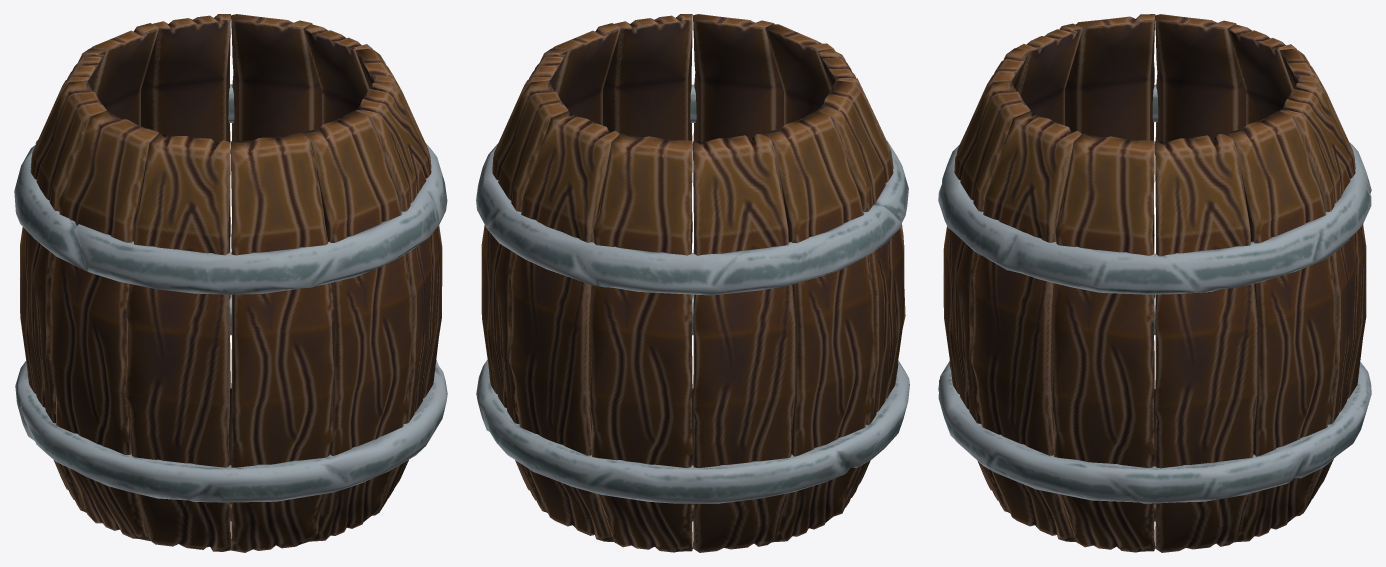
Rendered from BarrelOpen_01.fbx.
3 renders of one model, left to right at view 1: azimuth 30°, elevation 25°; view 2: azimuth 150°, elevation 25°; view 3: azimuth 270°, elevation 25°, orthographic.
Parts seen in each view (by area): view 1: BarrelOpen_01; view 2: BarrelOpen_01; view 3: BarrelOpen_01.
Boxes of the visible parts, <box> form: BarrelOpen_01: <box>14,14,447,552</box>; BarrelOpen_01: <box>476,14,909,552</box>; BarrelOpen_01: <box>938,14,1371,552</box>.
Size of the model in its own units: 142 by 147 by 142.
Materials: 1 (1 with a texture image).
